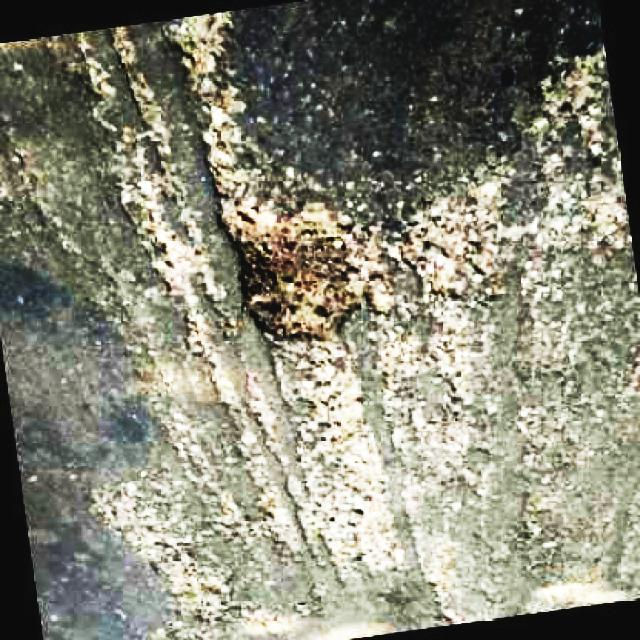pothole: (269, 365, 409, 586), (211, 181, 375, 354), (523, 49, 632, 252), (394, 185, 511, 308)
